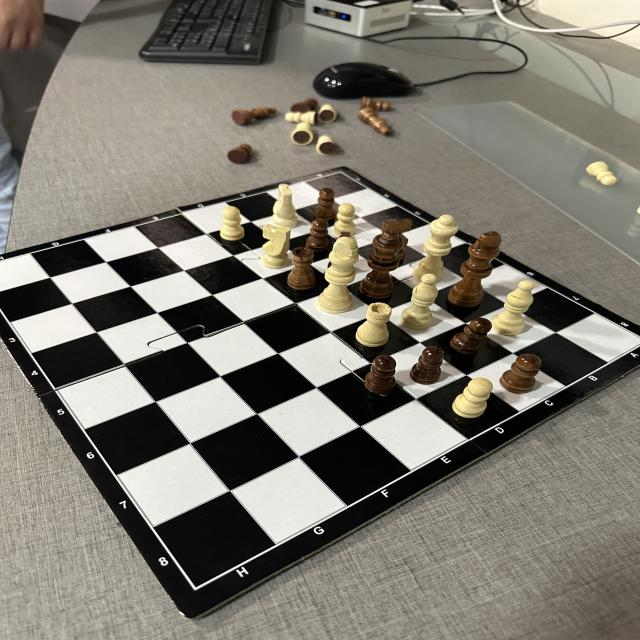Black-Bishop: (356, 108, 394, 137), (232, 107, 278, 125)
Black-King: (449, 231, 501, 307)
Black-Knight: (382, 218, 412, 234)
Black-Pawn: (500, 354, 542, 394), (451, 317, 492, 355), (408, 346, 444, 385), (364, 354, 396, 394), (306, 220, 331, 250), (314, 188, 336, 221), (227, 144, 252, 164), (360, 97, 390, 111), (290, 98, 318, 113)
Black-Queen: (361, 230, 404, 300)
Black-Rook: (286, 246, 317, 290)
White-Bishop: (491, 279, 534, 336), (400, 273, 441, 330)
White-King: (317, 237, 360, 313)
White-Knight: (271, 182, 297, 228), (262, 224, 289, 268)
White-Pawn: (452, 377, 494, 419), (220, 205, 246, 242), (586, 161, 617, 186), (335, 203, 357, 236), (285, 112, 319, 124), (296, 122, 312, 134), (321, 134, 336, 145)
White-Queen: (414, 214, 458, 281)
White-Rook: (355, 302, 390, 348)
